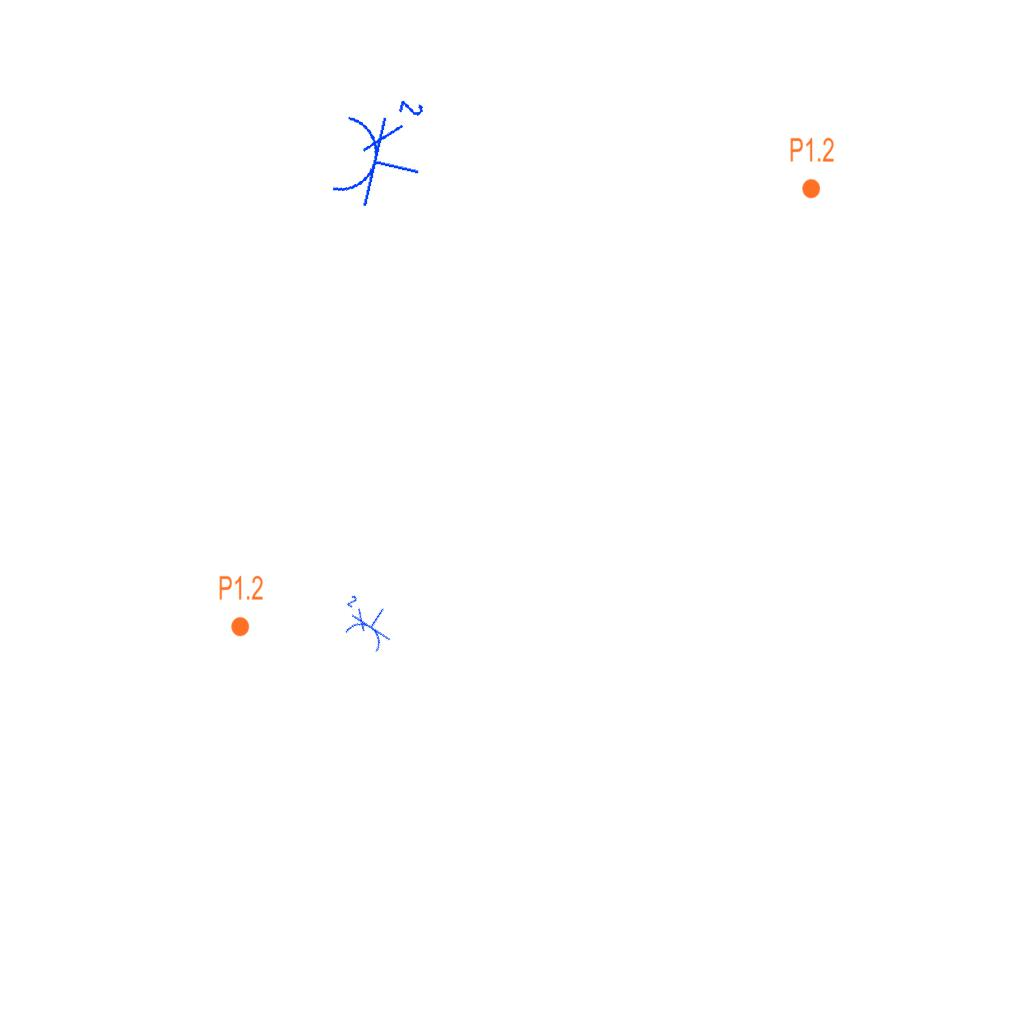Downlight_LED_Einbauleuchten_Flur: (789, 136, 835, 200), (218, 574, 264, 638)
Schukosteckdose_mehrfach: (323, 80, 437, 219), (328, 588, 404, 658)
